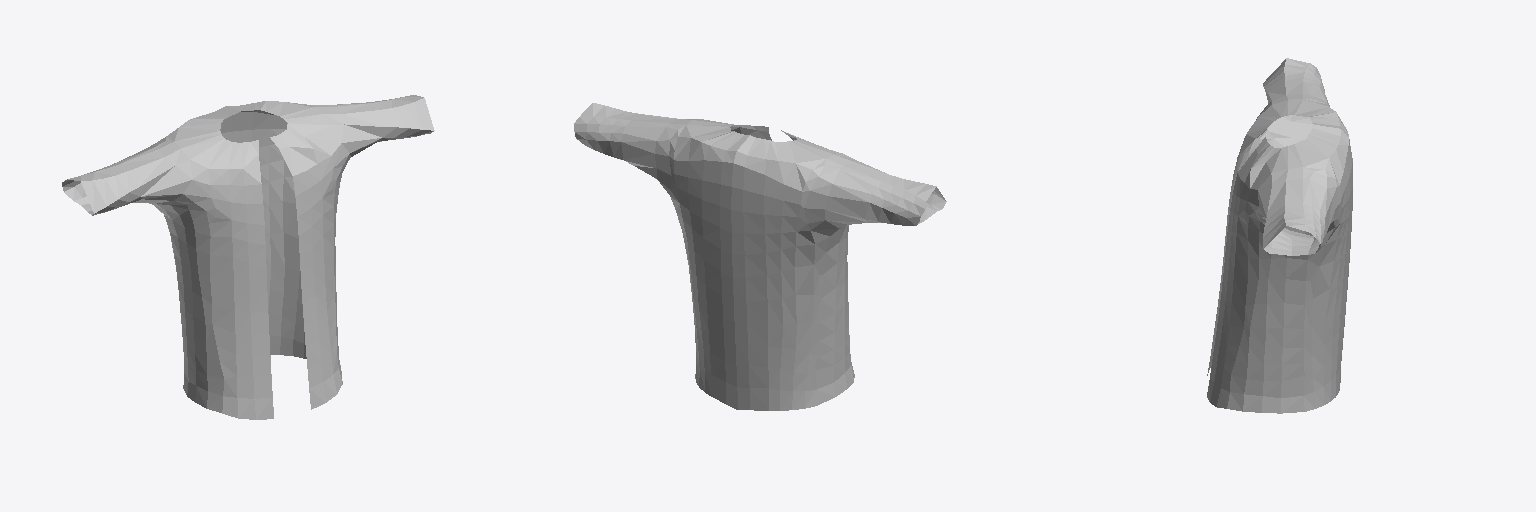
File: shirt_0.obj
3 views of the same model, side by side, from view 1: azimuth 30°, elevation 25°; view 2: azimuth 150°, elevation 25°; view 3: azimuth 270°, elevation 25° (orthographic).
Visible parts, largest first — view 1: tshirt_0.004; view 2: tshirt_0.004; view 3: tshirt_0.004.
Boxes of the visible parts, x1,y1,x2,y2 form: tshirt_0.004: [62, 95, 434, 419]; tshirt_0.004: [574, 103, 946, 410]; tshirt_0.004: [1207, 58, 1352, 413].
Bounding box in the file's own units: 1.57 × 1.13 × 0.5648.